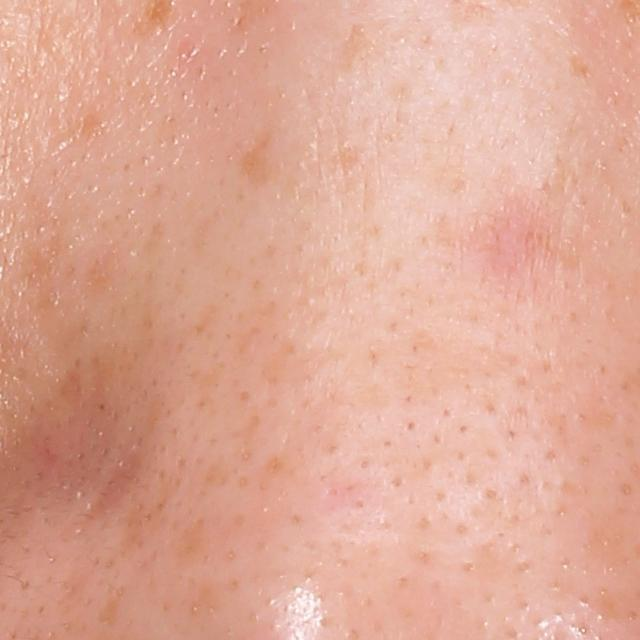melasma: (115, 468, 184, 564), (78, 247, 131, 302), (330, 18, 376, 80), (234, 131, 276, 193), (91, 586, 124, 636), (567, 52, 595, 82)
